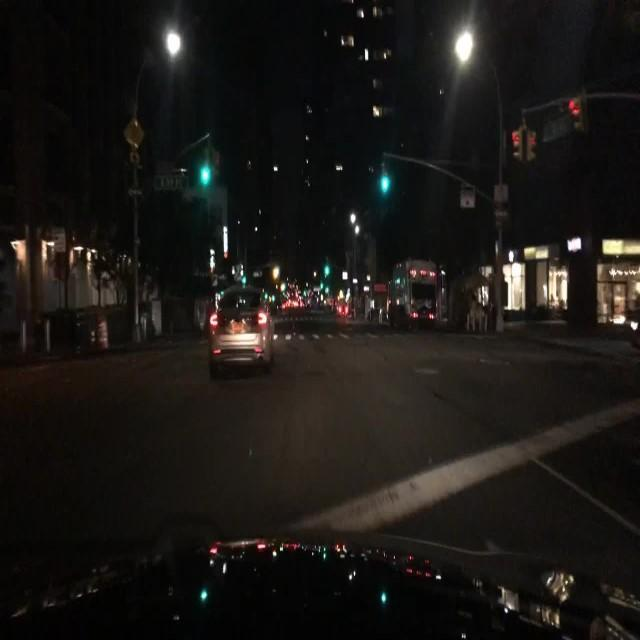normal: (174, 253, 271, 386)
